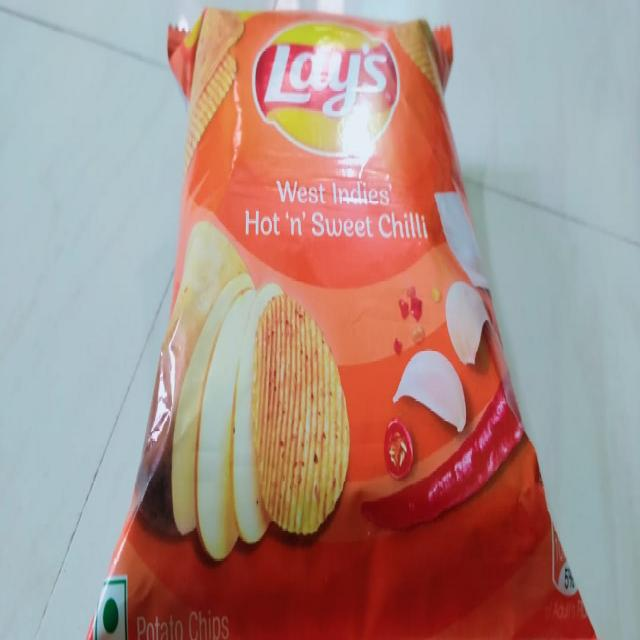lays: (78, 18, 599, 640)
